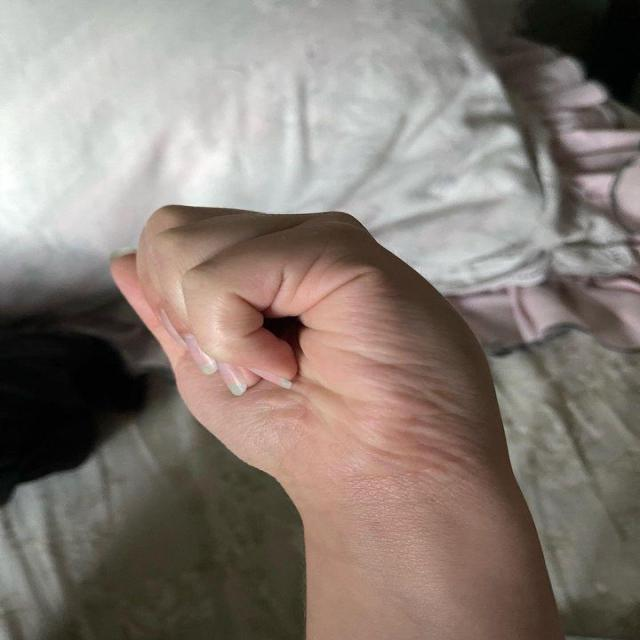A: (109, 199, 492, 491)
